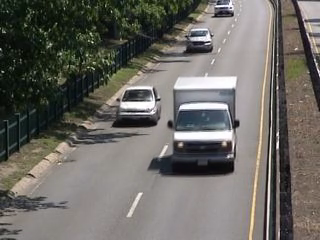car: (114, 85, 164, 128), (184, 27, 213, 53), (212, 1, 236, 19)
truck: (168, 76, 241, 176)
